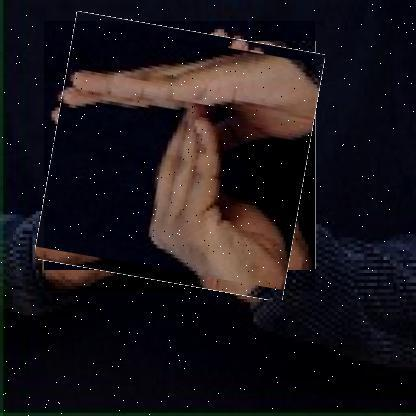Z: (43, 21, 315, 292)
